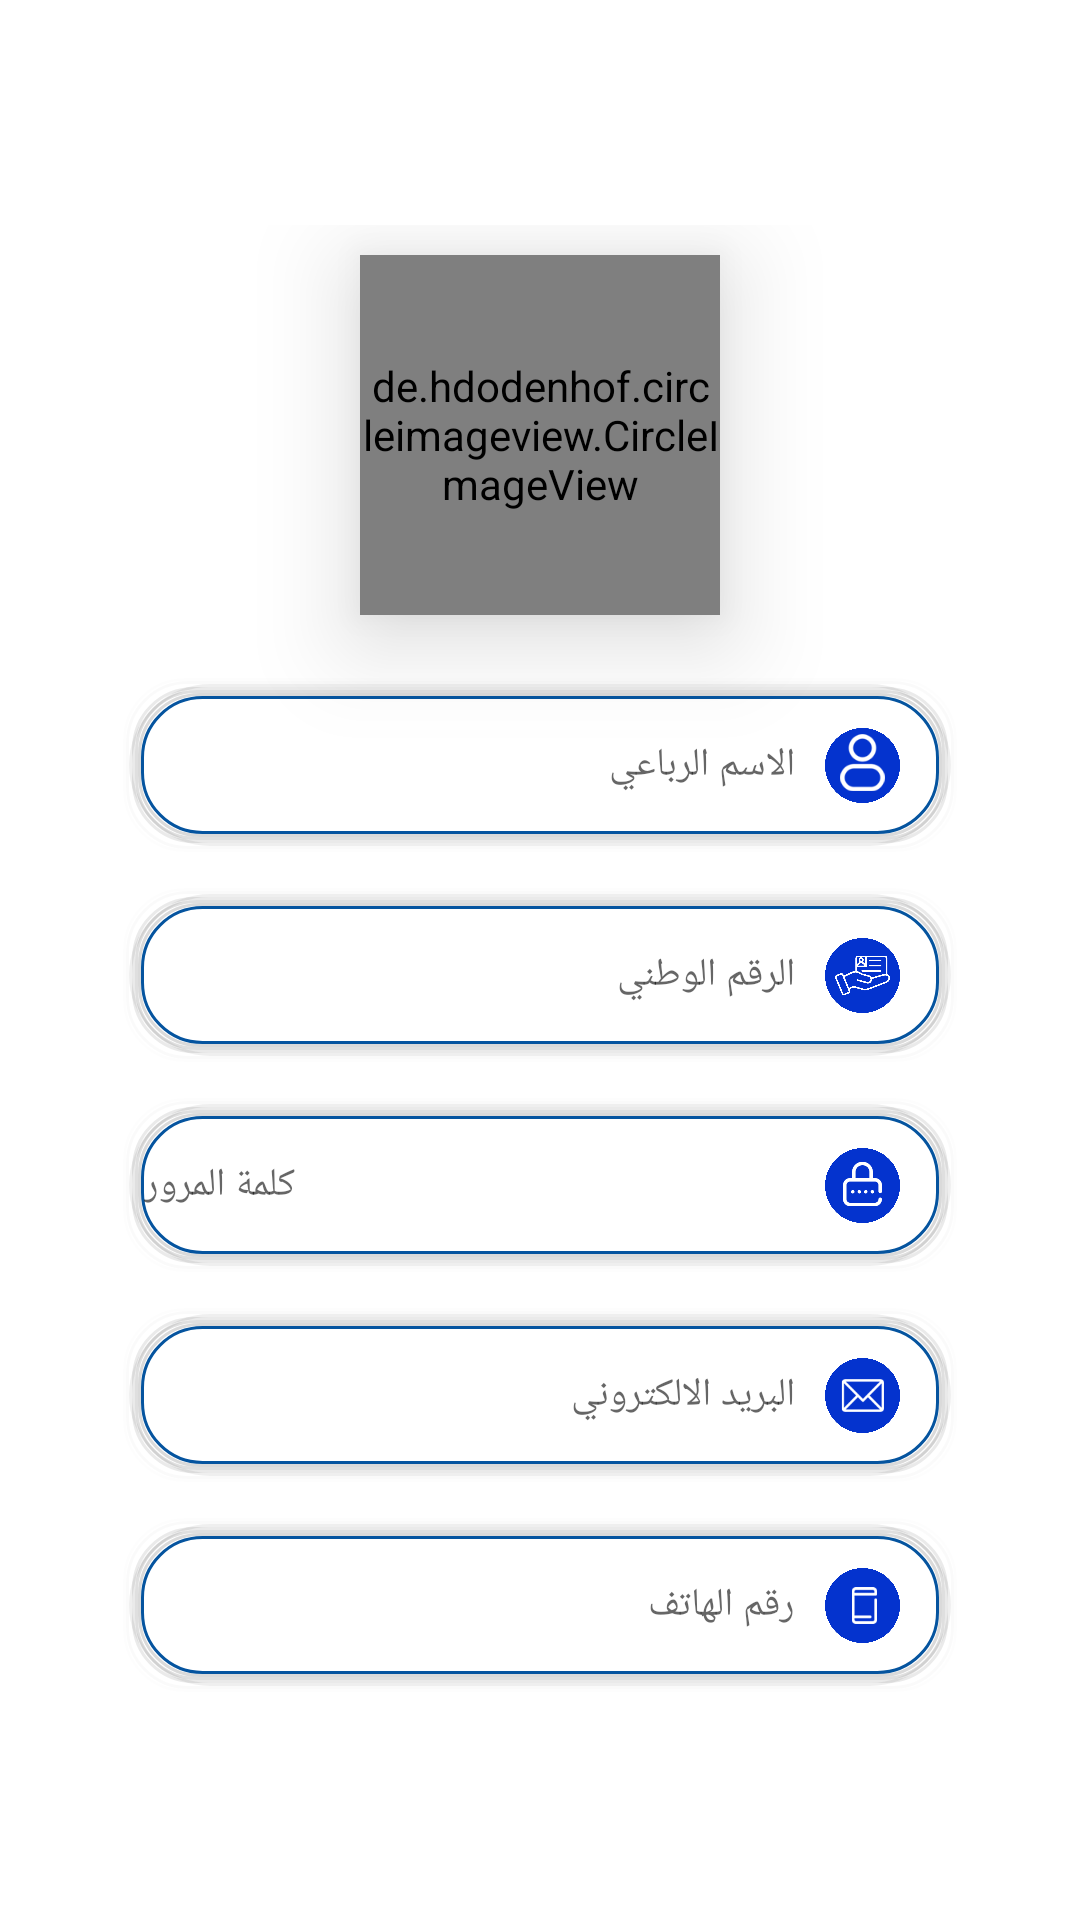

Named icons in this screenshot (1080px×1920px) and their bounding boxes, (x1, y1, x2, y2):
emaill: (825, 1358, 900, 1433)
national id: (825, 938, 900, 1013)
password: (825, 1148, 900, 1223)
phone numberrr: (825, 1568, 900, 1643)
profile: (825, 728, 900, 803)
